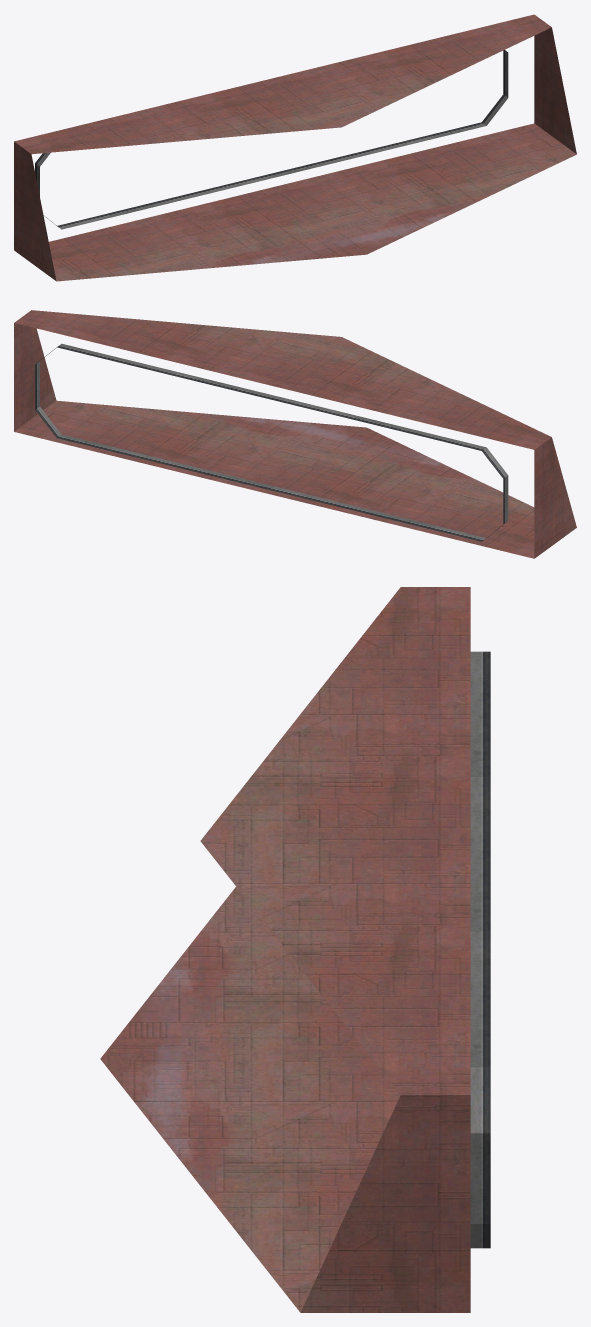
The model's file is thm_spc_corvette_dungeon_r0_mesh_l0.fbx.
The picture shows the model from 3 angles, top to bottom: view 1: azimuth 30°, elevation 25°; view 2: azimuth 150°, elevation 25°; view 3: azimuth 270°, elevation 25°; orthographic projection. The views are drawn at different scales.
Parts seen in each view (by area): view 1: mesh_node; view 2: mesh_node; view 3: mesh_node.
Boxes of the visible parts, x1=… form: mesh_node: x1=14, y1=14, x2=576, y2=281; mesh_node: x1=14, y1=310, x2=576, y2=558; mesh_node: x1=100, y1=587, x2=490, y2=1312.
Size of the model in its own units: 12 by 2.4 by 3.9.
